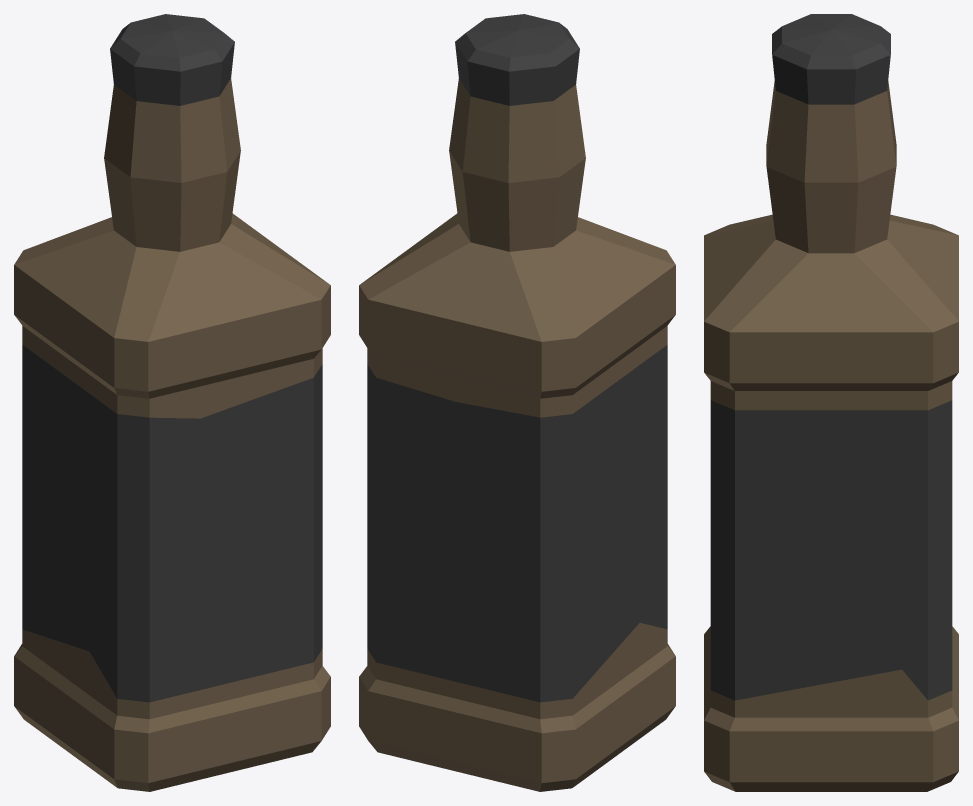
The model's file is BourbonBottle_Mesh.fbx.
3 views of the same model, side by side, from view 1: azimuth 30°, elevation 25°; view 2: azimuth 150°, elevation 25°; view 3: azimuth 270°, elevation 25° (orthographic).
Visible parts, largest first — view 1: BourbonBottle; view 2: BourbonBottle; view 3: BourbonBottle.
Part boxes in pixels (x1=…): BourbonBottle: x1=14, y1=14, x2=330, y2=791; BourbonBottle: x1=359, y1=14, x2=675, y2=791; BourbonBottle: x1=704, y1=14, x2=958, y2=791.
Bounding box in the file's own units: 10 × 30.81 × 10.
